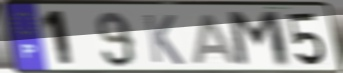1: (40, 9, 77, 71)
5: (285, 11, 326, 68)
9: (95, 10, 137, 69)
A: (191, 13, 242, 66)
K: (141, 12, 187, 67)
M: (224, 10, 294, 70)
